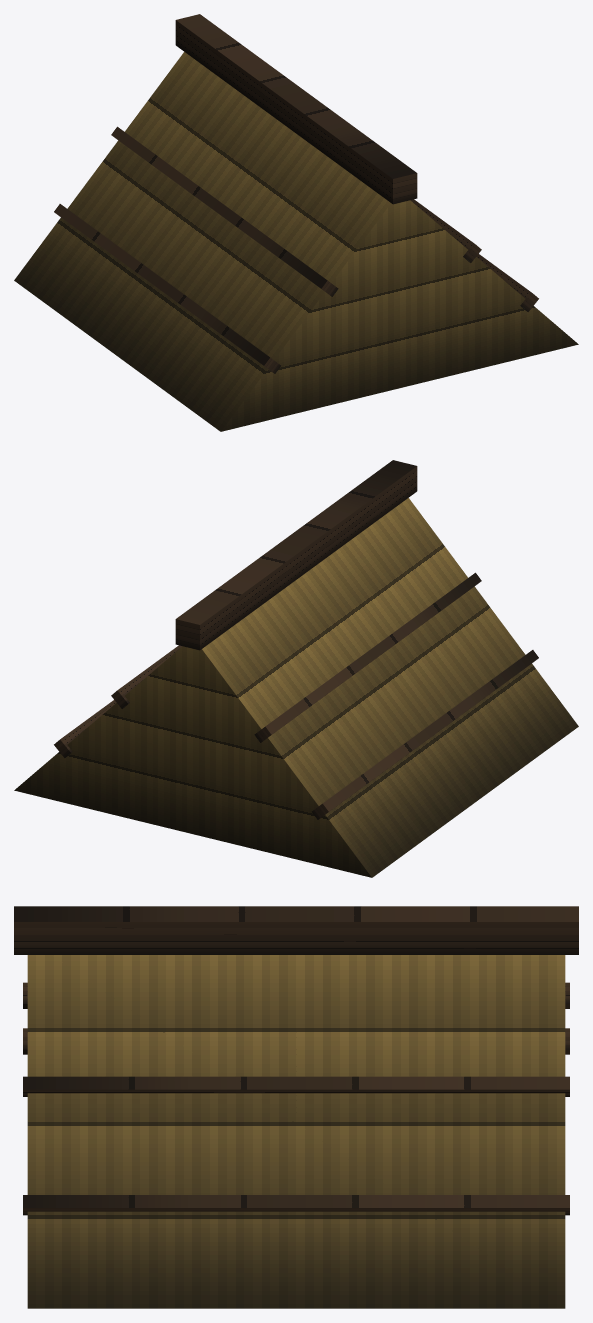
Rendered from roof_gable_thatch.gltf.
The picture shows the model from 3 angles, top to bottom: view 1: azimuth 30°, elevation 25°; view 2: azimuth 150°, elevation 25°; view 3: azimuth 270°, elevation 25°; orthographic projection. The views are drawn at different scales.
Parts seen in each view (by area): view 1: roof_gable_thatch; view 2: roof_gable_thatch; view 3: roof_gable_thatch.
Part boxes in pixels (bbox=[...]): roof_gable_thatch: bbox=[14, 14, 578, 431]; roof_gable_thatch: bbox=[14, 460, 578, 877]; roof_gable_thatch: bbox=[14, 906, 578, 1308].
Bounding box in the file's own units: 1.18 × 0.68 × 1.24.
Materials: 1 (1 with a texture image).
